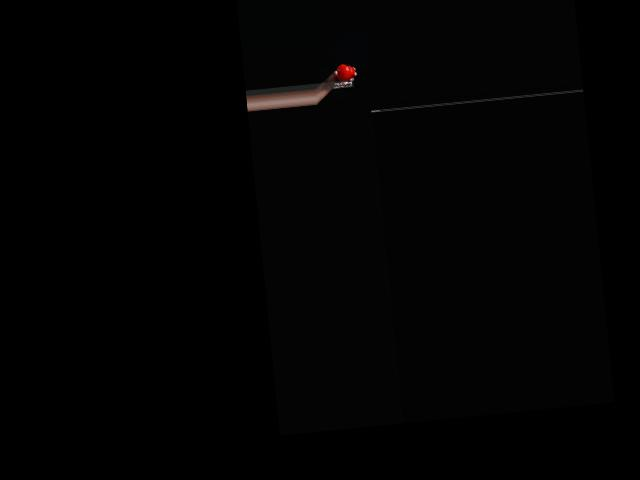tomato: (336, 62, 355, 82)
